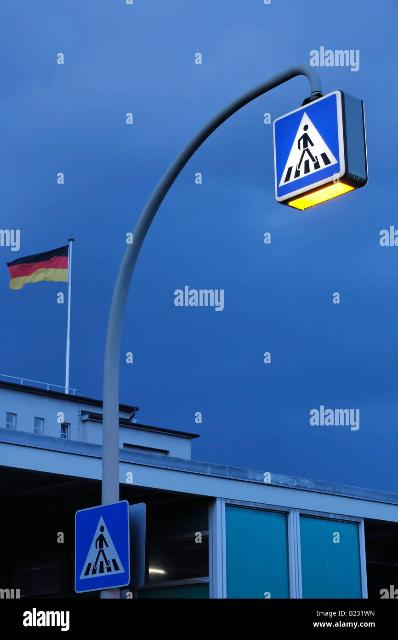crosswalk-sign: (273, 90, 369, 211), (75, 501, 132, 594)
